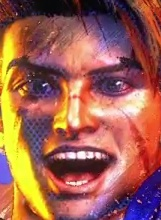kevin: (9, 7, 160, 213)
